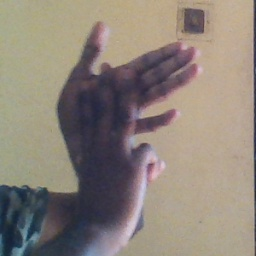M: (53, 19, 202, 189)
